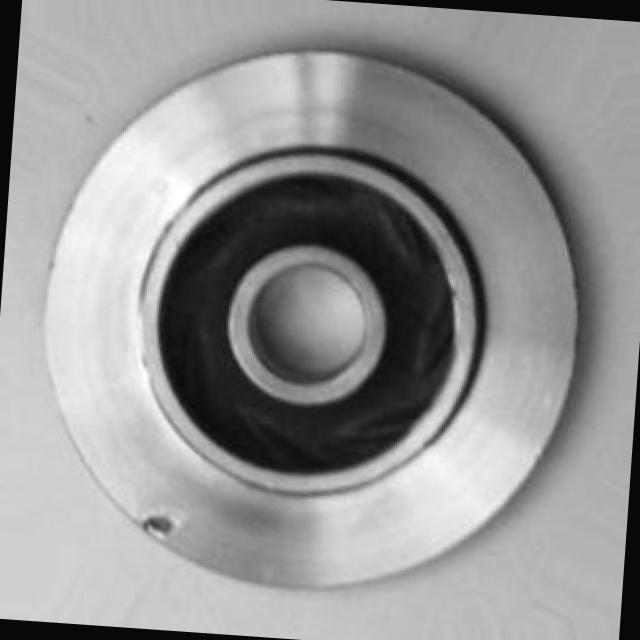Defect: (138, 505, 178, 546)
